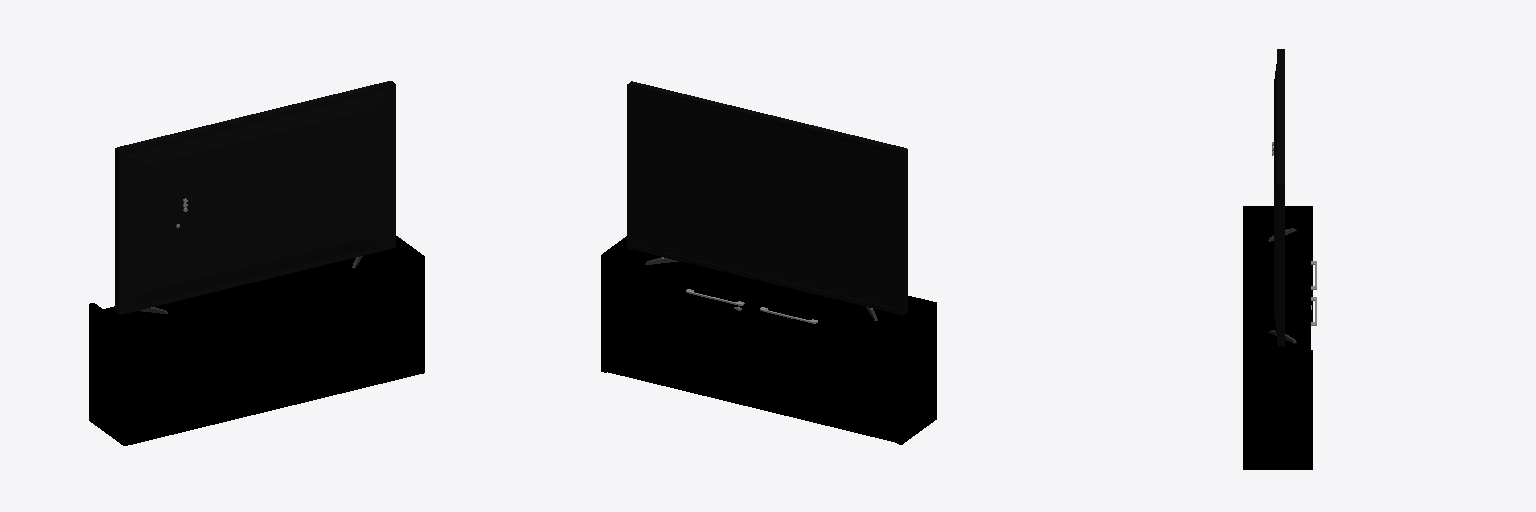
File: televisionTable.obj
3 renders of one model, left to right at view 1: azimuth 30°, elevation 25°; view 2: azimuth 150°, elevation 25°; view 3: azimuth 270°, elevation 25°, orthographic.
Parts seen in each view (by area): view 1: Rectangle10; view 2: Rectangle10; view 3: Rectangle10.
Boxes of the visible parts, x1=… form: Rectangle10: x1=89, y1=81, x2=424, y2=445; Rectangle10: x1=601, y1=81, x2=936, y2=444; Rectangle10: x1=1243, y1=49, x2=1316, y2=469.
Bounding box in the file's own units: 217 × 193 × 46.41.